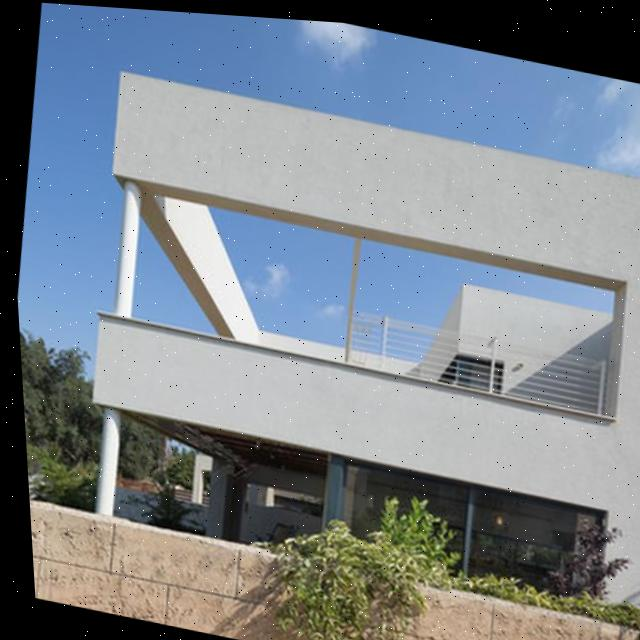building: (61, 67, 640, 609)
